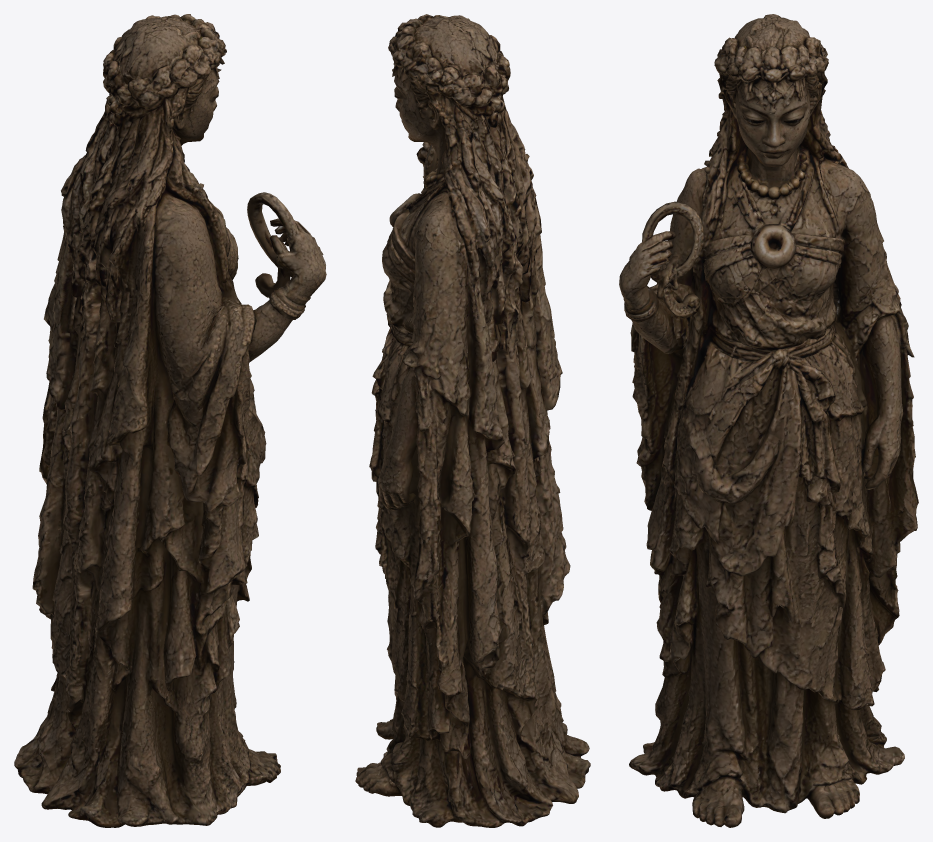
The model's file is bodhisattva_statue_3d_model_2.fbx.
3 renders of one model, left to right at view 1: azimuth 30°, elevation 25°; view 2: azimuth 150°, elevation 25°; view 3: azimuth 270°, elevation 25°, orthographic.
Parts seen in each view (by area): view 1: tripo_node_ad97890b; view 2: tripo_node_ad97890b; view 3: tripo_node_ad97890b.
Part boxes in pixels (x1,y1,x2,y2): tripo_node_ad97890b: (14, 14, 326, 827); tripo_node_ad97890b: (355, 14, 590, 827); tripo_node_ad97890b: (619, 14, 918, 827).
Size of the model in its own units: 0.2906 by 0.9678 by 0.3422.
